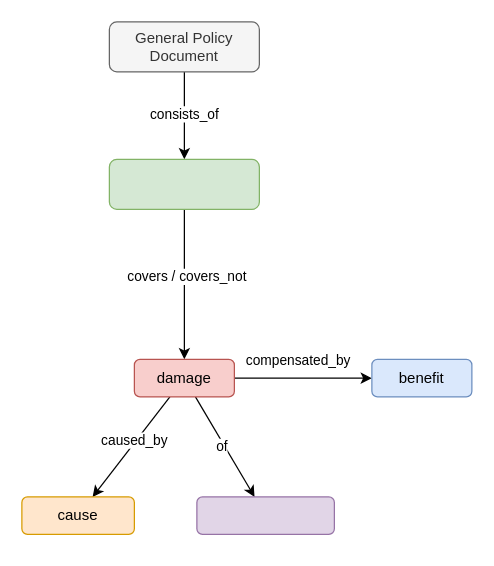
Some shapes in this 494 by 566 pixel diagram are drawn without their labels. Each missing label, with the box of its shape:
Specific Insurance: (108, 158, 259, 209)
subject: (196, 496, 334, 534)
